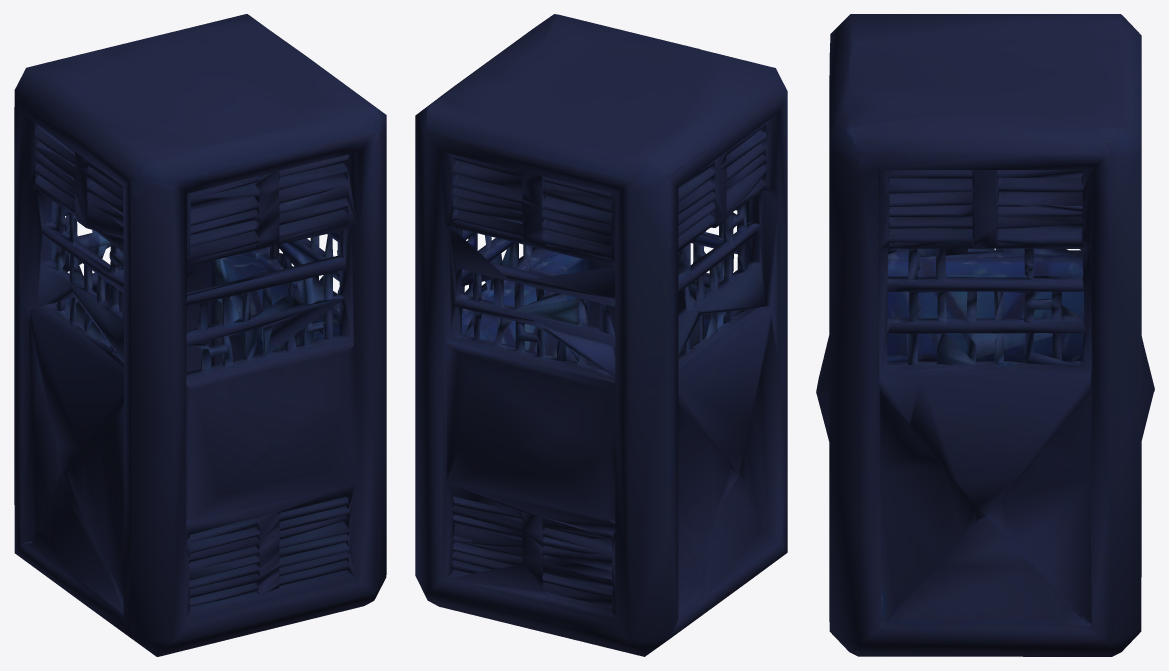
Rendered from server.glb.
3 views of the same model, side by side, from view 1: azimuth 30°, elevation 25°; view 2: azimuth 150°, elevation 25°; view 3: azimuth 270°, elevation 25° (orthographic). The views are drawn at different scales.
Parts seen in each view (by area): view 1: Mesh_0; view 2: Mesh_0; view 3: Mesh_0.
Boxes of the visible parts, x1,y1,x2,y2 form: Mesh_0: (14, 14, 386, 656); Mesh_0: (415, 14, 787, 656); Mesh_0: (816, 14, 1154, 656).
Size of the model in its own units: 1.1 by 1.91 by 1.1.
Materials: 1 (1 with a texture image).
